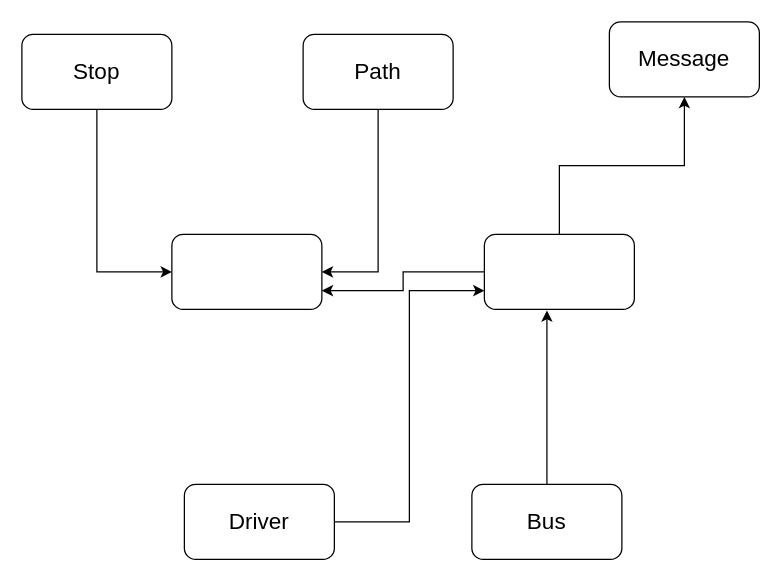
Some shapes in this 781 by 581 pixel diagram are drawn without their labels. Here are the shapes that lost their labels. From the top down, the centre of each, then its label:
the point at 246,271: Track
the point at 558,271: Routes
